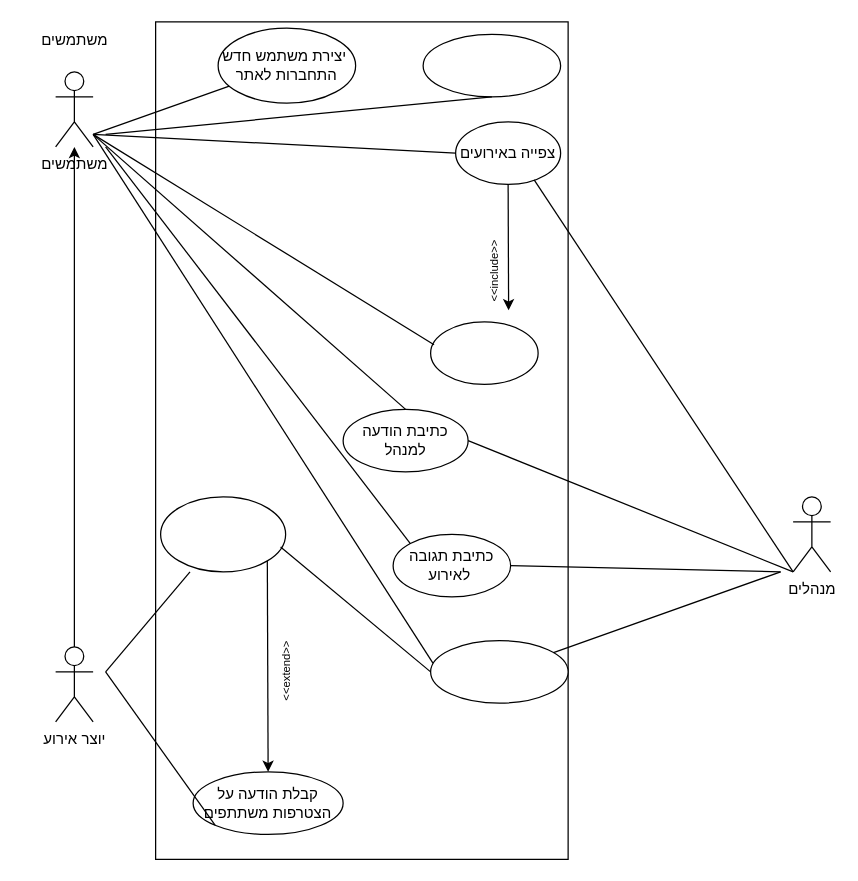
This 858x881 diagram has some shape labels left out. The shapes that lost their labels are listed below. From the top down, each one's centre as x and y in pixels, then its label:
(491,65): עריכת פרטים אישיים
(483,352): חיפוש אירועים לפי מסננים
(222,534): יצירת אירועים
(498,671): מחיקת אירועים או חסימה משתמשים
